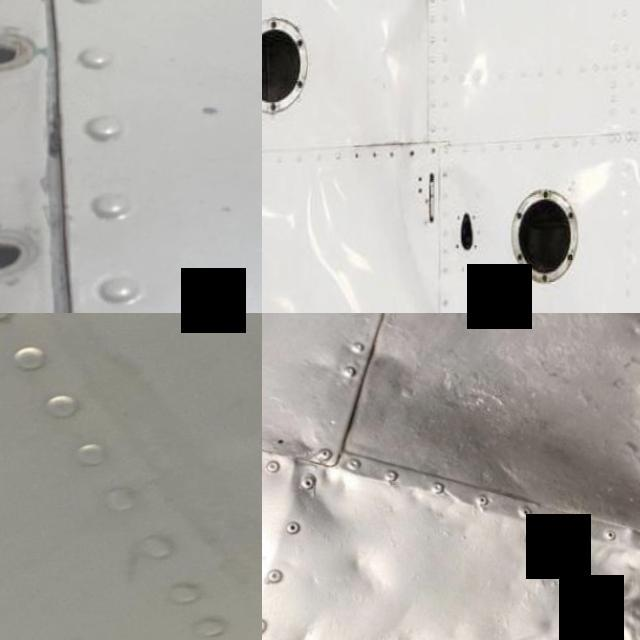Dent: (305, 155, 436, 313), (527, 532, 640, 640), (274, 598, 555, 640), (266, 442, 362, 546), (378, 0, 428, 145), (329, 536, 405, 614)
Missing_Fastener: (0, 32, 42, 83), (0, 231, 37, 281)
